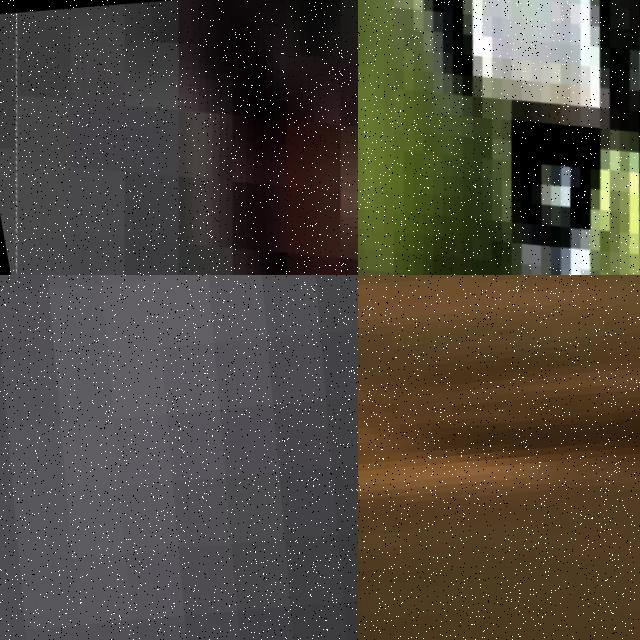0: (0, 0, 358, 275)
drone: (358, 0, 640, 275)
